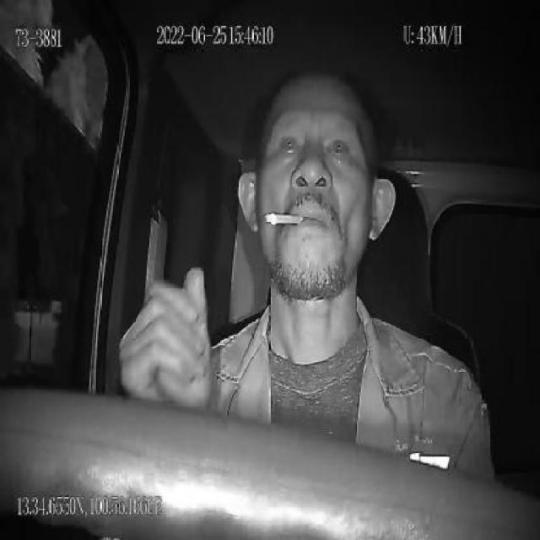smoking: (263, 210, 308, 229)
